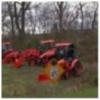tractors: (34, 42, 84, 84)
